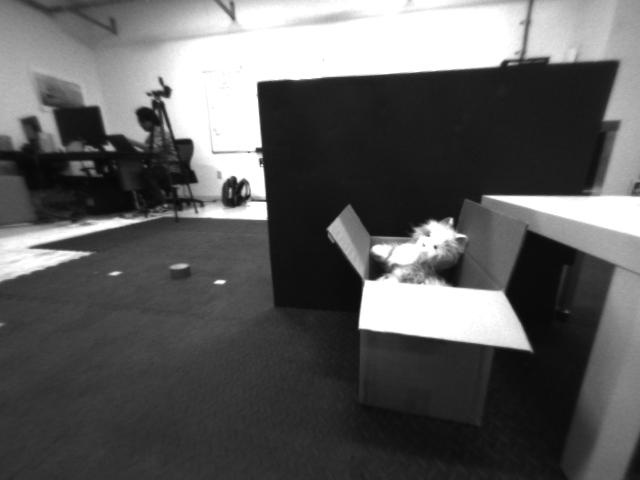dogtoy: (161, 255, 203, 287)
